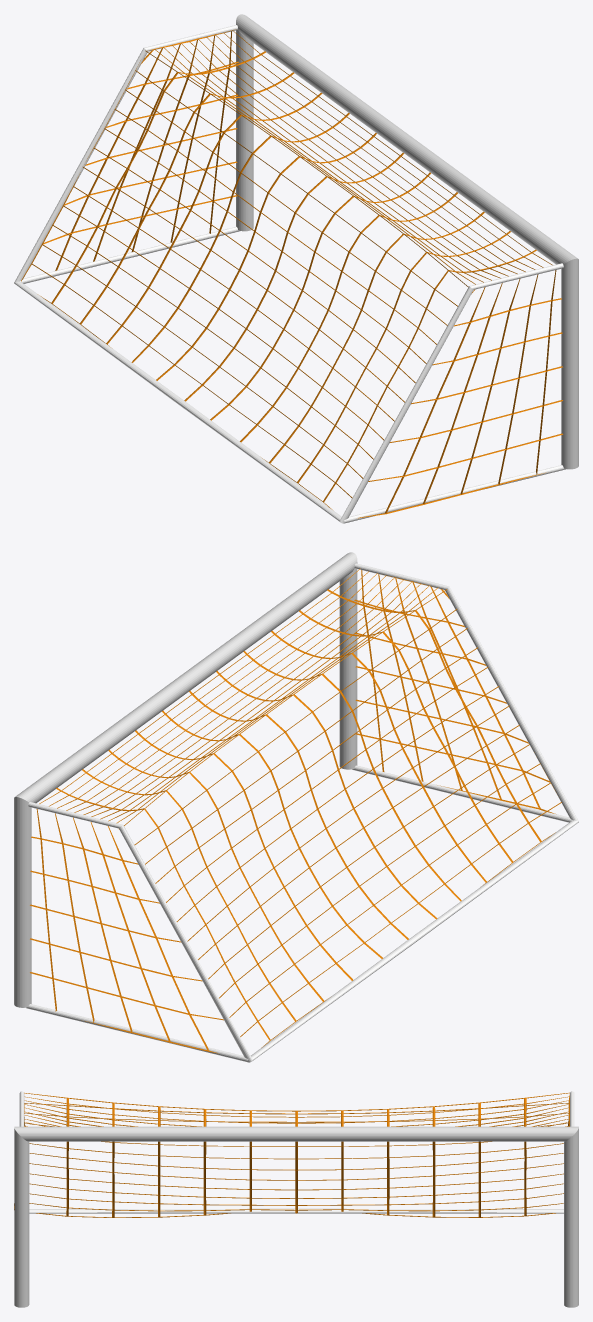
Rendered from goal.glb.
The picture shows the model from 3 angles, top to bottom: view 1: azimuth 30°, elevation 25°; view 2: azimuth 150°, elevation 25°; view 3: azimuth 270°, elevation 25°; orthographic projection. The views are drawn at different scales.
Parts seen in each view (by area): view 1: Cube, Cylinder, Plane; view 2: Cube, Cylinder, Plane; view 3: Cylinder, Cube, Plane.
Boxes of the visible parts, x1,y1,x2,y2 form: Cube: [21, 30, 562, 518]; Cylinder: [236, 14, 578, 469]; Plane: [14, 25, 566, 523]; Cube: [30, 568, 561, 1053]; Cylinder: [14, 552, 357, 1007]; Plane: [26, 563, 578, 1062]; Cylinder: [14, 1126, 578, 1307]; Cube: [14, 1092, 569, 1217]; Plane: [19, 1091, 574, 1213].
Bounding box in the file's own units: 3.09 × 2.65 × 7.51.
